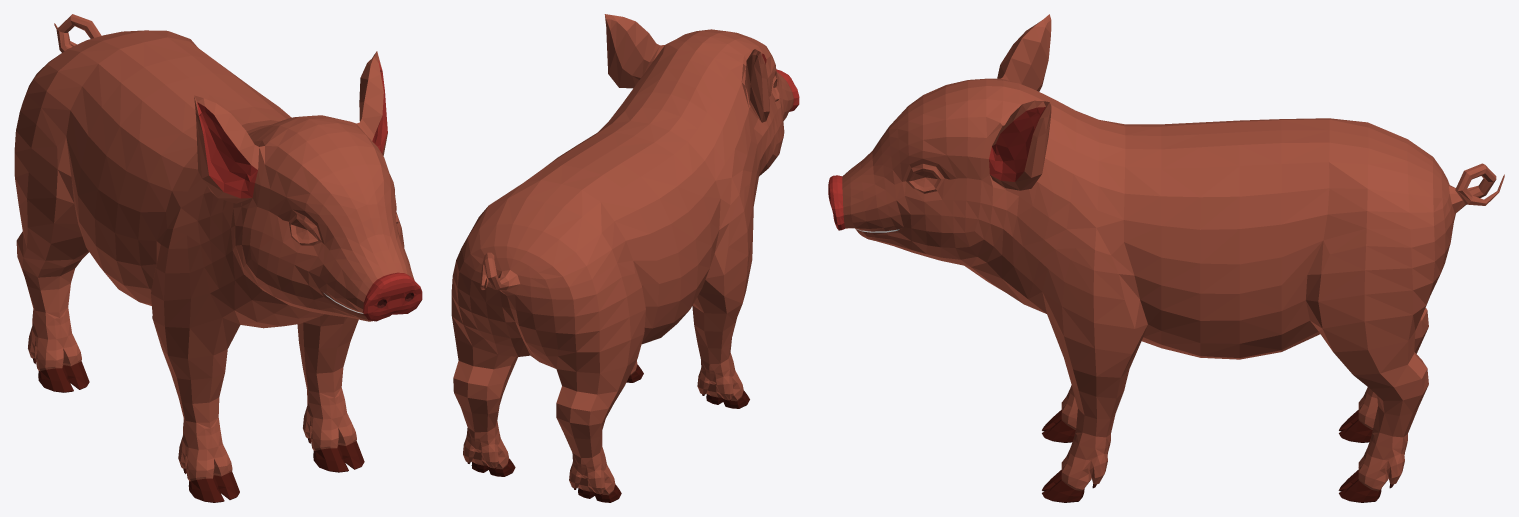
Rendered from minature_pig_miniature_pig.obj.
3 renders of one model, left to right at view 1: azimuth 30°, elevation 25°; view 2: azimuth 150°, elevation 25°; view 3: azimuth 270°, elevation 25°, orthographic. The views are drawn at different scales.
Bounding box in the file's own units: 0.3308 × 0.6535 × 0.9894.
